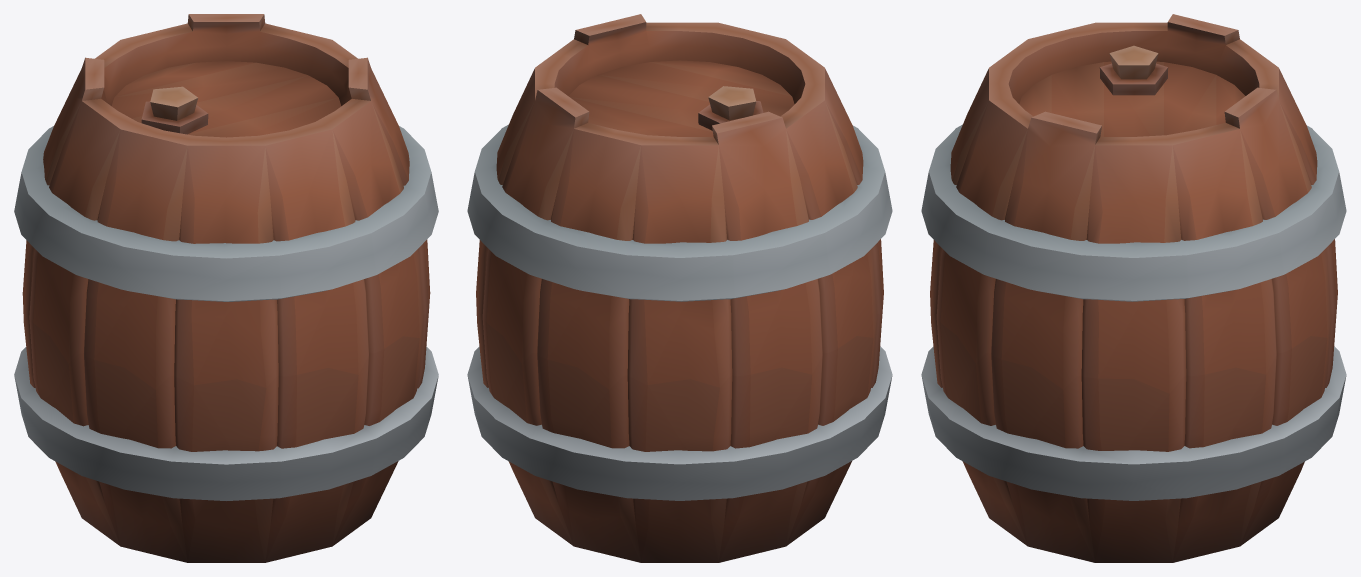
File: prop_barrel_large.glb
3 views of the same model, side by side, from view 1: azimuth 30°, elevation 25°; view 2: azimuth 150°, elevation 25°; view 3: azimuth 270°, elevation 25° (orthographic).
Parts seen in each view (by area): view 1: refined; view 2: refined; view 3: refined.
Part boxes in pixels (left/top/right/bottom): refined: left=14, top=14, right=438, bottom=562; refined: left=467, top=14, right=892, bottom=562; refined: left=921, top=14, right=1346, bottom=562.
Bounding box in the file's own units: 1.8 × 2 × 1.8.
